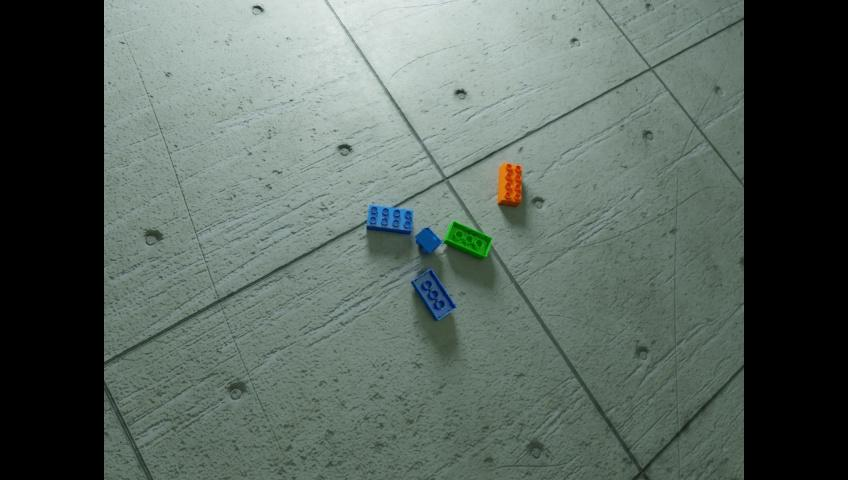2x2_blue: (415, 227, 442, 255)
4x2_blue: (410, 268, 455, 320), (366, 204, 412, 234)
4x2_green: (444, 220, 493, 259)
4x2_orange: (497, 163, 524, 207)
